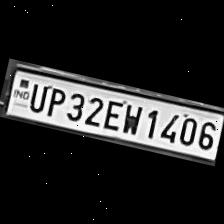0: (175, 111, 201, 146)
1: (138, 103, 162, 139)
2: (81, 92, 107, 126)
3: (62, 86, 88, 120)
4: (155, 106, 182, 144)
6: (193, 115, 219, 150)
E: (99, 94, 125, 130)
P: (42, 81, 68, 117)
U: (24, 78, 50, 112)
W: (118, 98, 146, 136)
